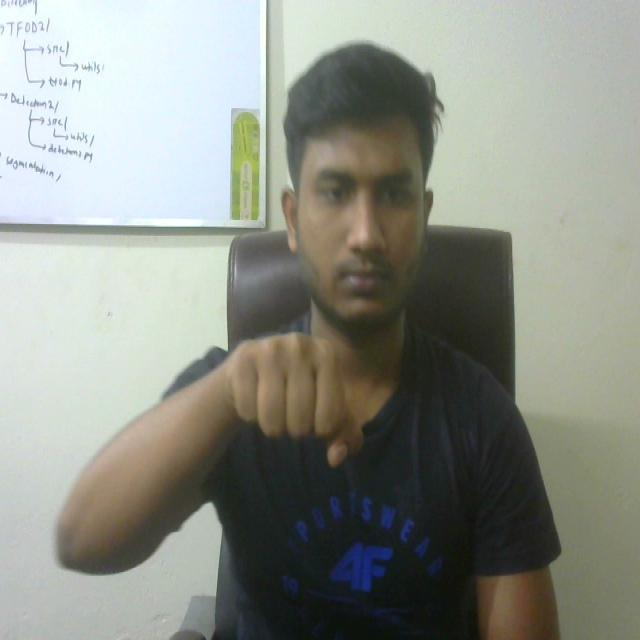Yes: (212, 315, 376, 482)
